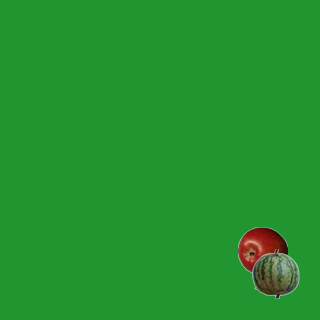Apple Braeburn: (237, 226, 287, 276)
Watermelon: (250, 248, 300, 298)
